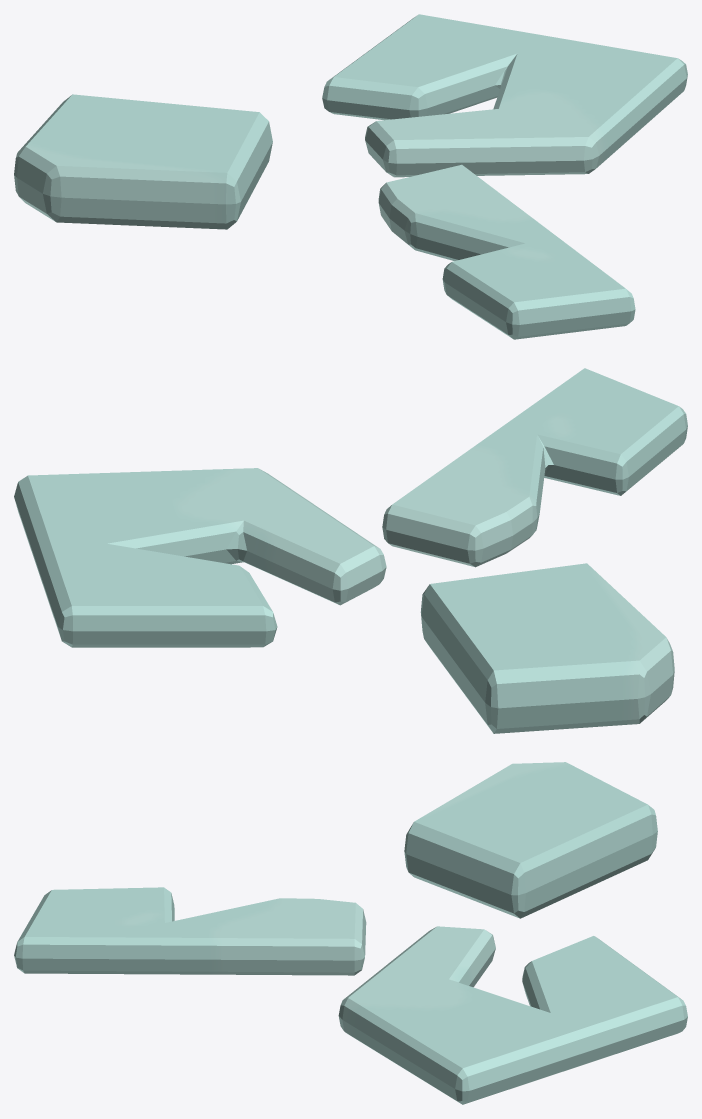
Rendered from Mod_Glassbreak_04.fbx.
The picture shows the model from 3 angles, top to bottom: view 1: azimuth 30°, elevation 25°; view 2: azimuth 150°, elevation 25°; view 3: azimuth 270°, elevation 25°; orthographic projection. The views are drawn at different scales.
Parts seen in each view (by area): view 1: Mod_Glassbreak_04; view 2: Mod_Glassbreak_04; view 3: Mod_Glassbreak_04.
Part boxes in pixels (left/top/right/bottom): Mod_Glassbreak_04: left=14, top=14, right=687, bottom=339; Mod_Glassbreak_04: left=14, top=368, right=687, bottom=733; Mod_Glassbreak_04: left=14, top=762, right=687, bottom=1104.
Bounding box in the file's own units: 74.87 × 6.58 × 71.91.
